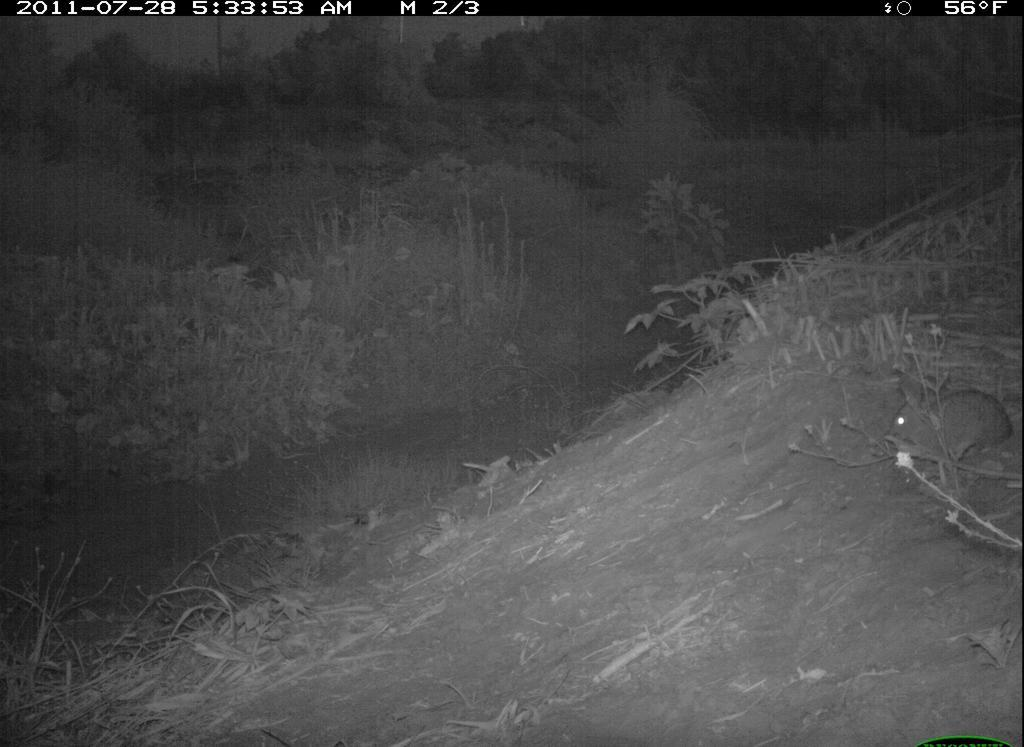rabbit: (881, 355, 1022, 487)
